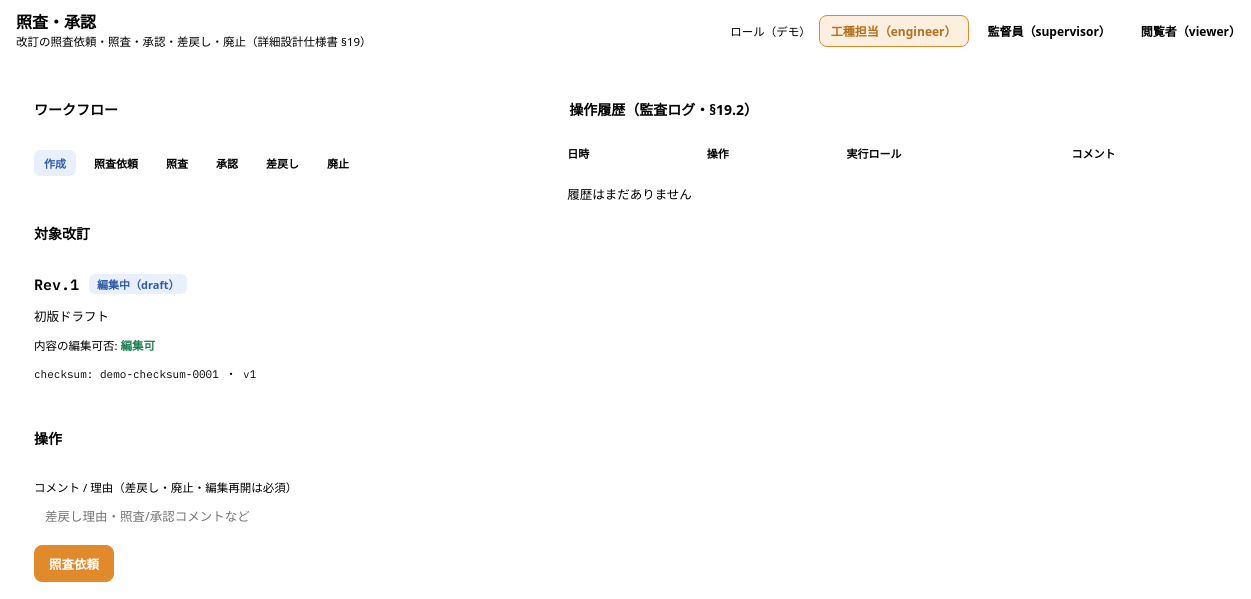
Test: ReviewApprovalPage › engineer が照査依頼すると inReview へ遷移する
Click the button "照査依頼": click(74, 564) [34,545,114,582]
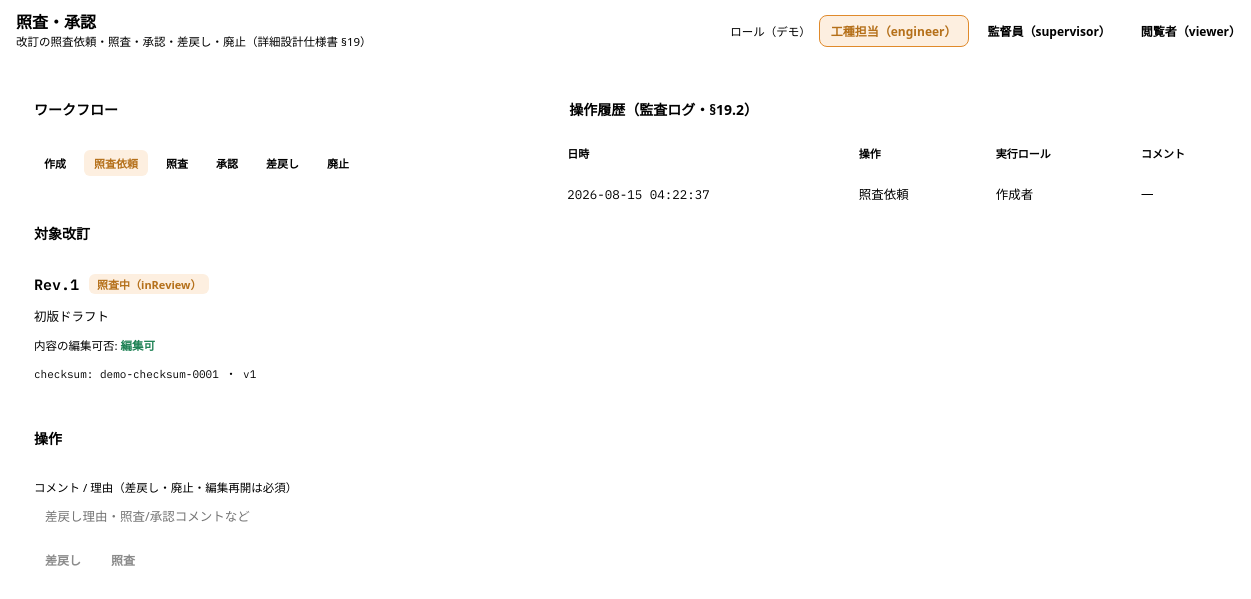
Expected: the text "照査中（inReview）" is shown, [89,274,209,294]
Expected: the text "編集中（draft）" is gone
